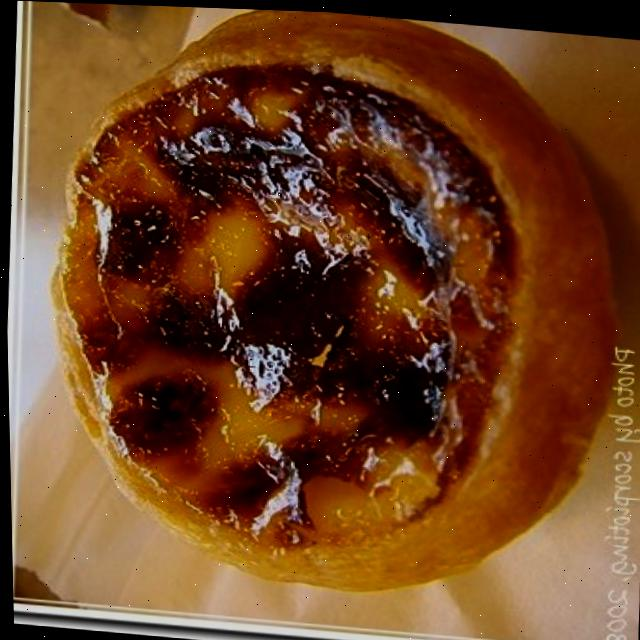炸货点心: (20, 1, 640, 630)
蛋糕甜品: (20, 1, 640, 630)
